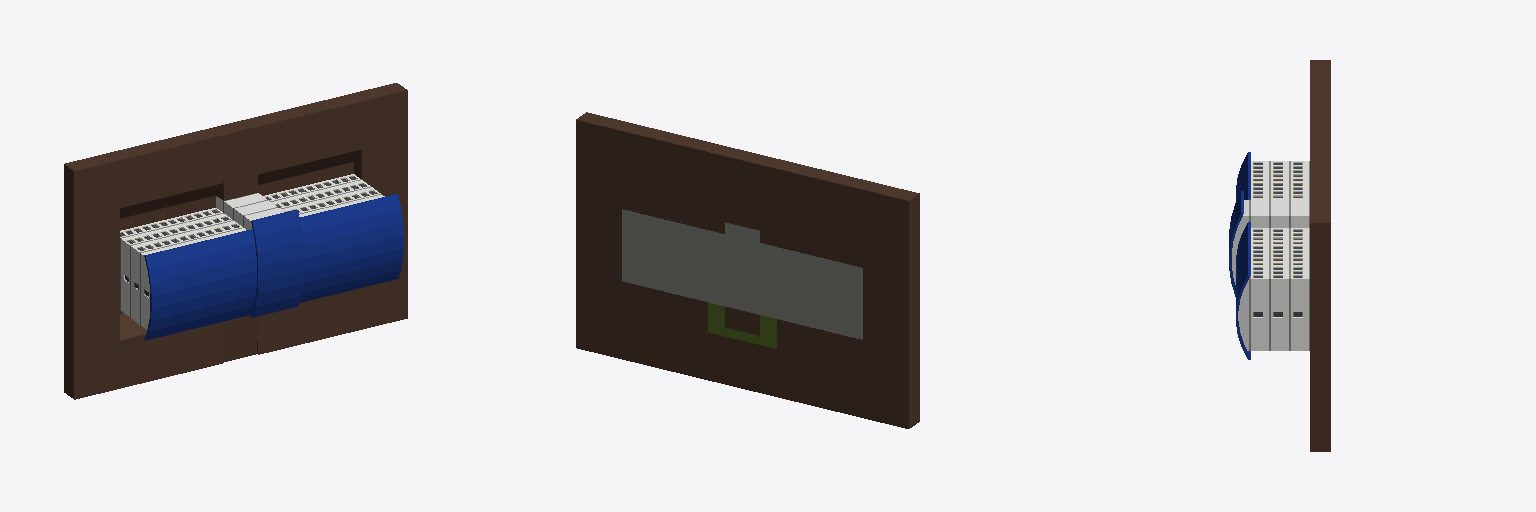
Rendered from Institute-Var-2-IFC.obj.
3 renders of one model, left to right at view 1: azimuth 30°, elevation 25°; view 2: azimuth 150°, elevation 25°; view 3: azimuth 270°, elevation 25°, orthographic.
Parts seen in each view (by area): view 1: Gelaende_0815, Dach-001, Wand-002, Wand-006, Wand-001, Wand-004, Fenster-004, Fenster-005, Decke-001; view 2: Gelaende_0815, Decke-002; view 3: Gelaende_0815, Wand-007, Dach-001, Wand-006, Wand-002, Wand-004, Fenster-005, Decke-002, Fenster-004, Decke-001.
Boxes of the visible parts, <box> form: Gelaende_0815: <box>64,83,407,399</box>; Dach-001: <box>144,194,403,340</box>; Wand-002: <box>120,208,245,254</box>; Wand-006: <box>263,174,384,216</box>; Wand-001: <box>121,239,149,329</box>; Wand-004: <box>224,193,283,220</box>; Fenster-004: <box>120,210,238,250</box>; Fenster-005: <box>265,176,376,212</box>; Decke-001: <box>120,179,370,317</box>; Gelaende_0815: <box>576,112,919,428</box>; Decke-002: <box>622,209,862,339</box>; Gelaende_0815: <box>1310,60,1330,451</box>; Wand-007: <box>1238,279,1308,350</box>; Dach-001: <box>1229,152,1250,359</box>; Wand-006: <box>1251,228,1308,278</box>; Wand-002: <box>1251,161,1308,199</box>; Wand-004: <box>1243,200,1308,215</box>; Fenster-005: <box>1253,230,1302,277</box>; Decke-002: <box>1249,161,1270,350</box>; Fenster-004: <box>1253,163,1302,197</box>; Decke-001: <box>1289,161,1309,350</box>.
Size of the model in its own units: 58 by 38 by 15.35.